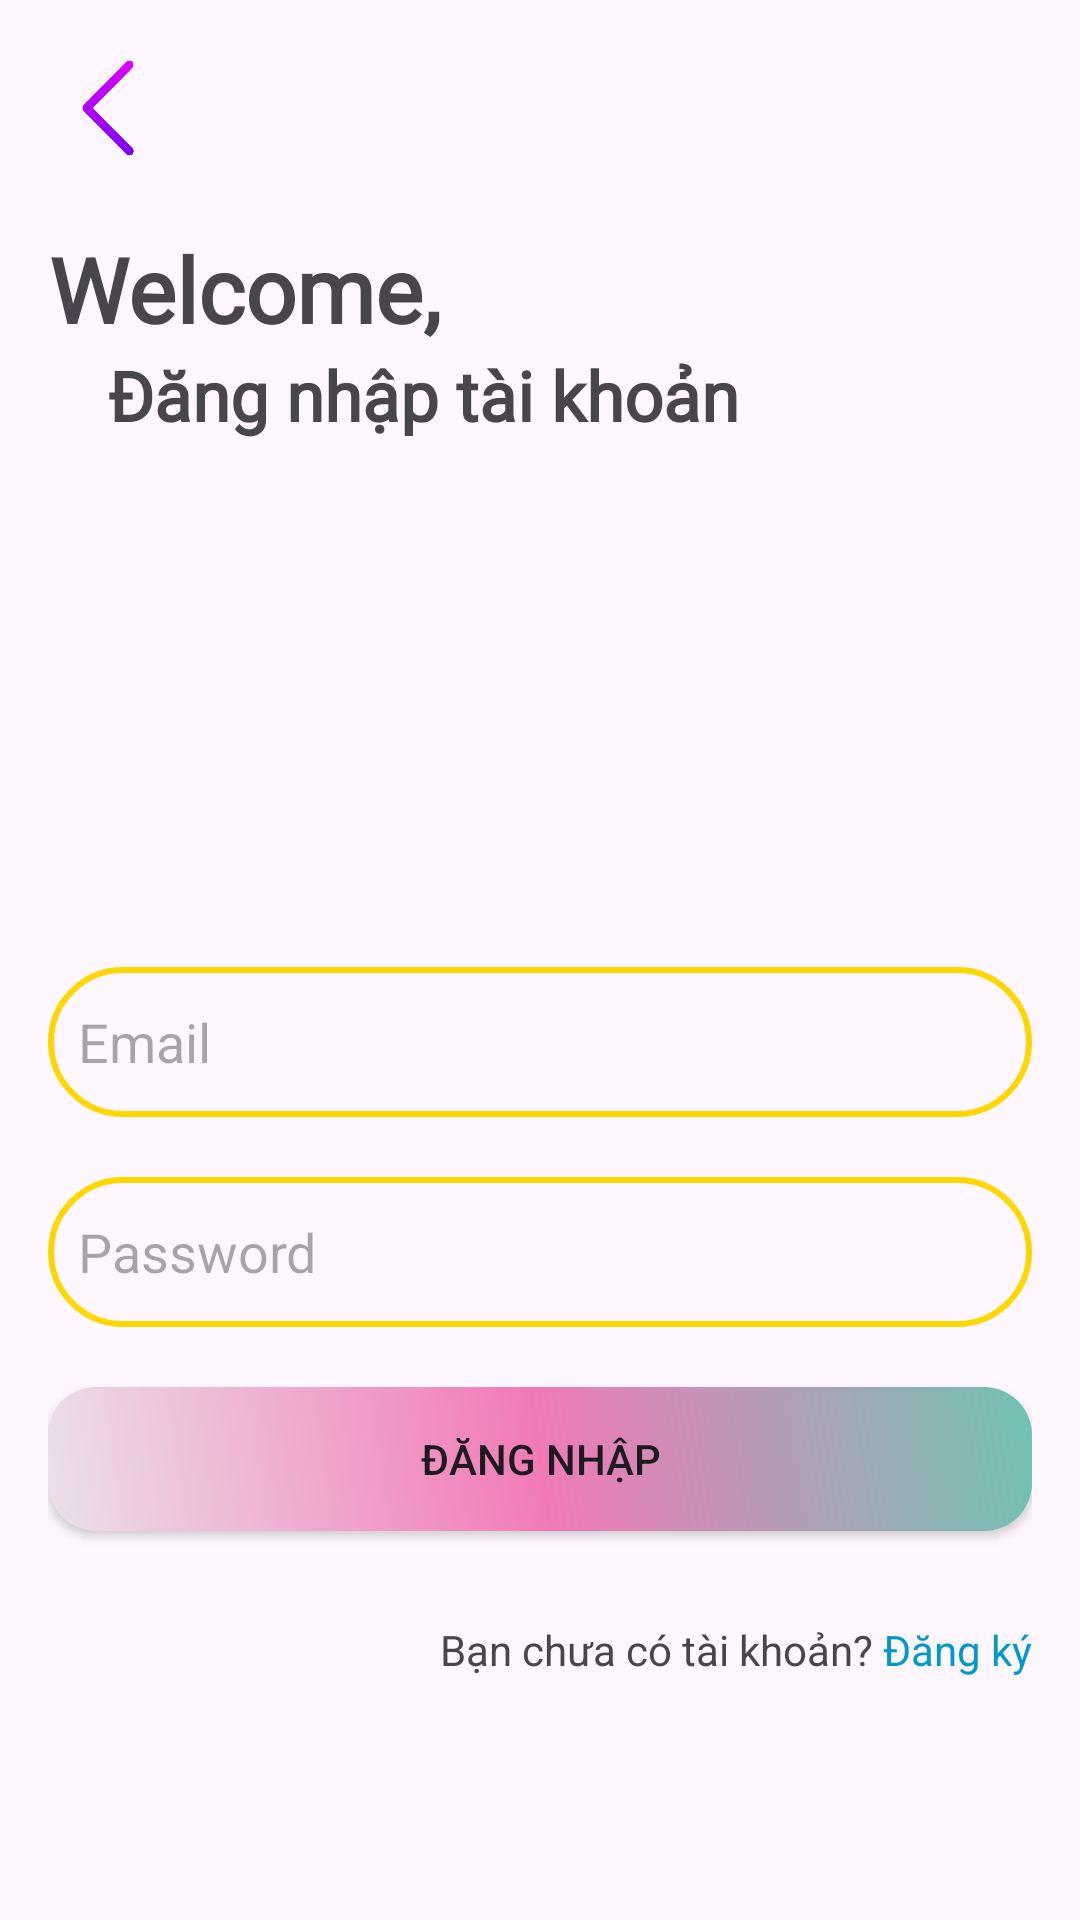

Named icons in this screenshot (1080px x 1920px) and their centers, (x,y):
left: (108,108)
